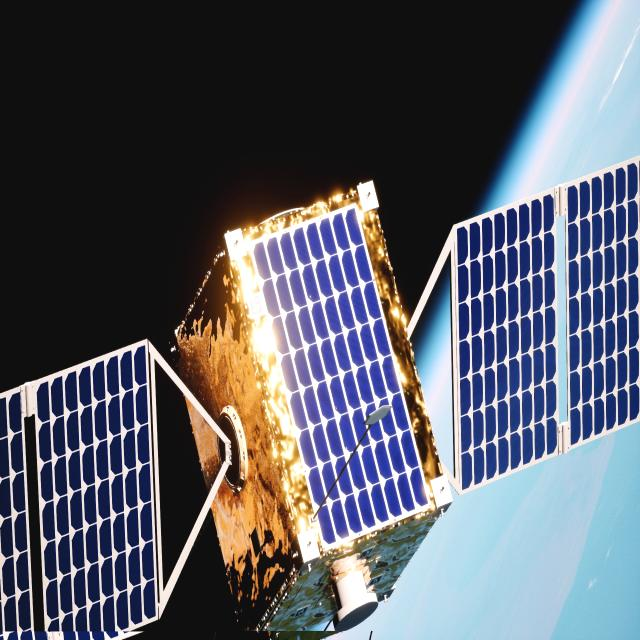satellite: (0, 157, 640, 640)
